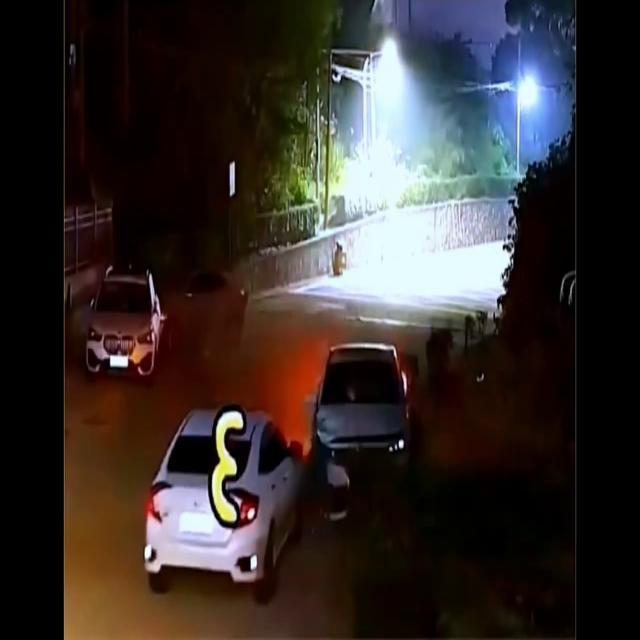multiple_accident: (131, 359, 496, 593)
normal: (73, 260, 186, 369)
